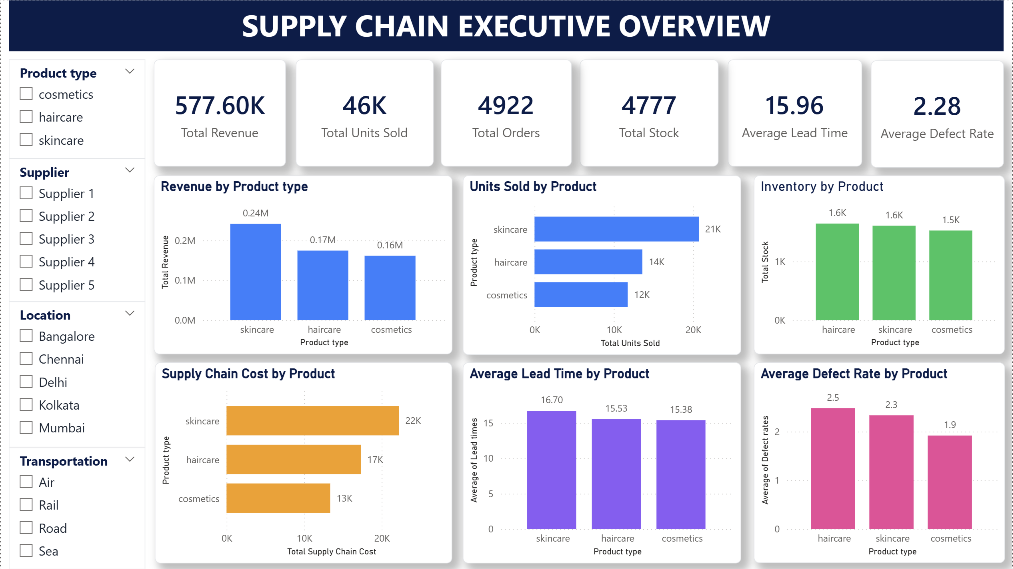

The dashboard page shown, as its layout file describes it:
{"tool":"powerbi","page":{"name":"Executive Overview","canvas":[1280,720],"ordinal":0},"visuals":[{"type":"textbox","box":[10.2,0,1259.3,64.4],"z":0},{"type":"card","fields":{"Values":["Supply_chain_Data.Total Revenue"]},"box":[194.3,74.3,167.1,135.7],"z":1000},{"type":"card","fields":{"Values":["Supply_chain_Data.Total Units Sold"]},"box":[372.9,74.3,174.3,135.7],"z":2000},{"type":"card","fields":{"Values":["Supply_chain_Data.Average Lead Time"]},"box":[920,74.3,170,135.7],"z":3000},{"type":"card","fields":{"Values":["Supply_chain_Data.Total Stock"]},"box":[732.9,74.3,175.7,135.7],"z":4000},{"type":"card","fields":{"Values":["Supply_chain_Data.Total Orders"]},"box":[557.1,74.3,165.7,135.7],"z":5000},{"type":"card","fields":{"Values":["Supply_chain_Data.Average Defect Rate"]},"box":[1101.4,75.7,168.6,135.7],"z":6000},{"type":"clusteredColumnChart","title":"Revenue by Product type","fields":{"Category":["Supply_chain_Data.Product type"],"Y":["Supply_chain_Data.Total Revenue"]},"box":[193.9,222,378,226.3],"z":7000},{"type":"barChart","title":"Units Sold by Product","fields":{"Category":["Supply_chain_Data.Product type"],"Y":["Supply_chain_Data.Total Units Sold"]},"box":[584.7,222,352.5,227.1],"z":8000},{"type":"clusteredColumnChart","title":"Inventory by Product","fields":{"Category":["Supply_chain_Data.Product type"],"Y":["Supply_chain_Data.Total Stock"]},"box":[952.6,221.1,317.5,226.3],"z":9000},{"type":"barChart","title":"Supply Chain Cost by Product","fields":{"Category":["Supply_chain_Data.Product type"],"Y":["Supply_chain_Data.Total Supply Chain Cost"]},"box":[194.9,457.6,376.3,254.2],"z":10000},{"type":"slicer","fields":{"Values":["Supply_chain_Data.Product type"]},"box":[10.2,74.6,172.9,125.4],"z":11000},{"type":"slicer","fields":{"Values":["Supply_chain_Data.Supplier name"]},"box":[10.2,200,172.9,181.4],"z":12000},{"type":"slicer","fields":{"Values":["Supply_chain_Data.Location"]},"box":[10.2,381.4,172.9,184.7],"z":13000},{"type":"slicer","fields":{"Values":["Supply_chain_Data.Transportation modes"]},"box":[10.2,566.1,172.9,154.2],"z":14000},{"type":"clusteredColumnChart","title":"Average Lead Time by Product","fields":{"Category":["Supply_chain_Data.Product type"],"Y":["Avg(Supply_chain_Data.Lead times)"]},"box":[584.7,457.6,352.5,254.2],"z":15000},{"type":"clusteredColumnChart","title":"Average Defect Rate by Product","fields":{"Category":["Supply_chain_Data.Product type"],"Y":["Avg(Supply_chain_Data.Defect rates)"]},"box":[953,458,318,254],"z":16000}]}

Visuals, with their boxes in screenshot pixels (x1, y1, x2, y2), scaled from the page's 1280x720 canvas onto the 1013x569 screenshot:
textbox: left=8, top=0, right=1005, bottom=51
card - Supply_chain_Data.Total Revenue: left=154, top=59, right=286, bottom=166
card - Supply_chain_Data.Total Units Sold: left=295, top=59, right=433, bottom=166
card - Supply_chain_Data.Average Lead Time: left=728, top=59, right=863, bottom=166
card - Supply_chain_Data.Total Stock: left=580, top=59, right=719, bottom=166
card - Supply_chain_Data.Total Orders: left=441, top=59, right=572, bottom=166
card - Supply_chain_Data.Average Defect Rate: left=872, top=60, right=1005, bottom=167
"Revenue by Product type" clusteredColumnChart: left=153, top=175, right=453, bottom=354
"Units Sold by Product" barChart: left=463, top=175, right=742, bottom=355
"Inventory by Product" clusteredColumnChart: left=754, top=175, right=1005, bottom=354
"Supply Chain Cost by Product" barChart: left=154, top=362, right=452, bottom=563
slicer - Supply_chain_Data.Product type: left=8, top=59, right=145, bottom=158
slicer - Supply_chain_Data.Supplier name: left=8, top=158, right=145, bottom=301
slicer - Supply_chain_Data.Location: left=8, top=301, right=145, bottom=447
slicer - Supply_chain_Data.Transportation modes: left=8, top=447, right=145, bottom=568
"Average Lead Time by Product" clusteredColumnChart: left=463, top=362, right=742, bottom=563
"Average Defect Rate by Product" clusteredColumnChart: left=754, top=362, right=1006, bottom=563
